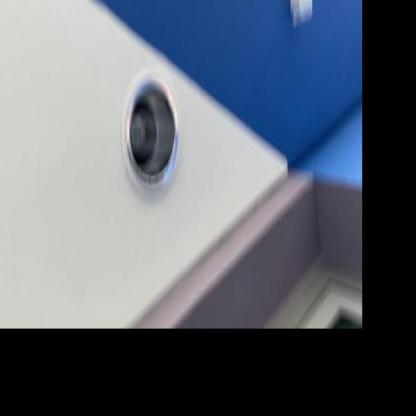light_off: (109, 48, 186, 212)
